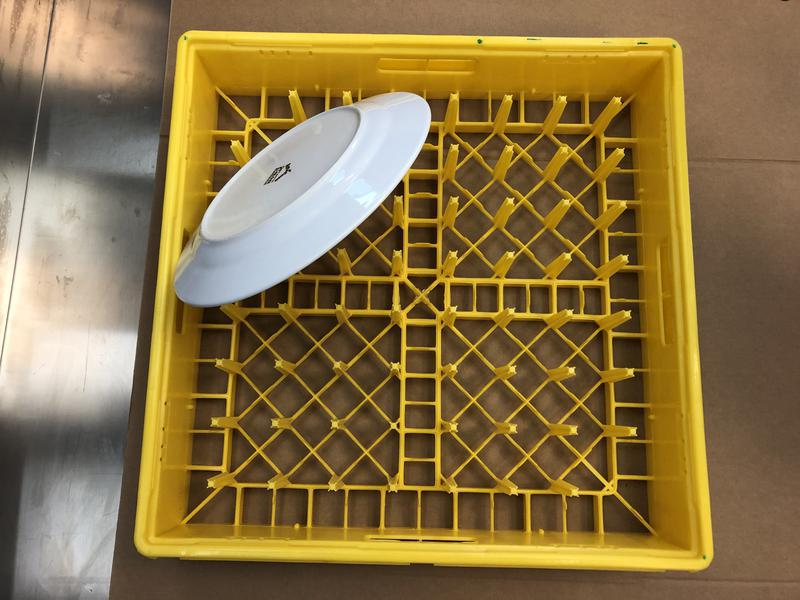Inclined_dish: (173, 92, 434, 309)
